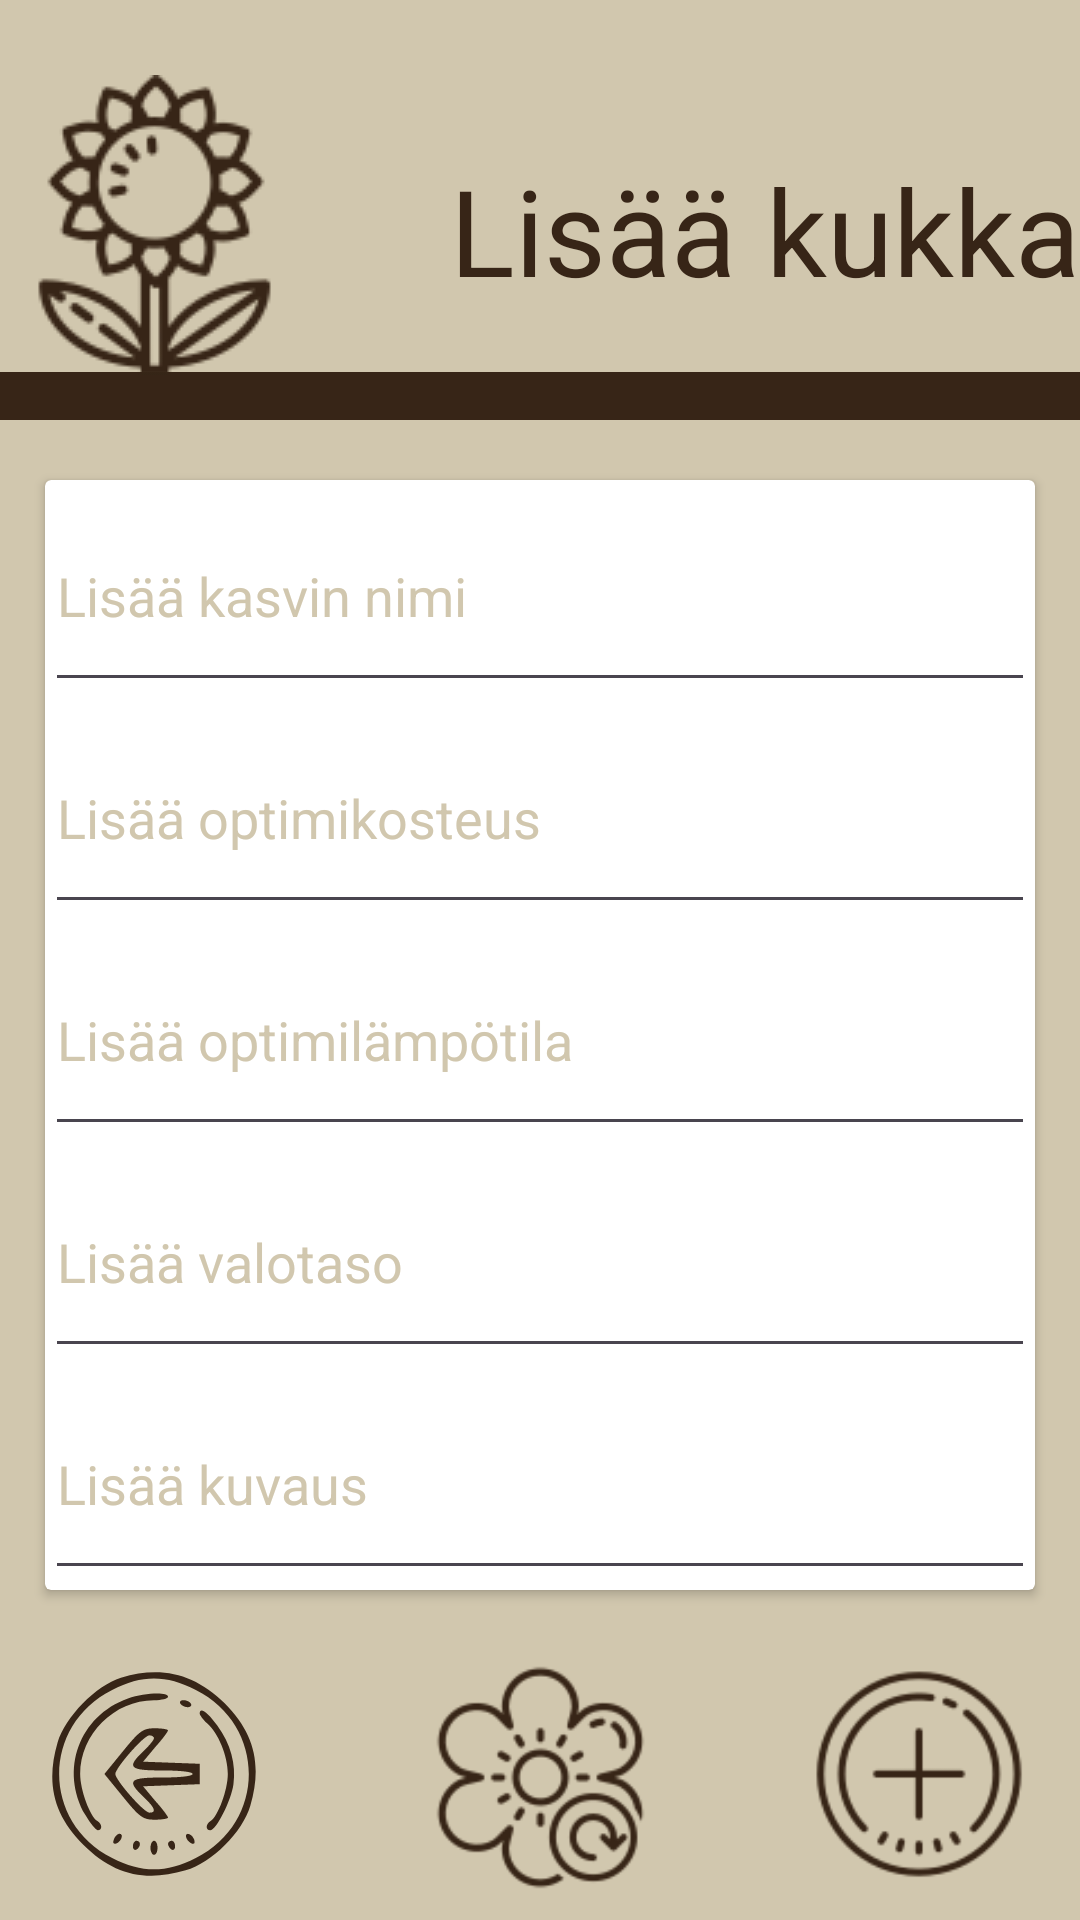

Screen size 1080px x 1920px. Icon name, then its center in pixels as [x,y]:
arrow: [154,1774]
flowerupdate: [540,1777]
plus: [919,1774]
